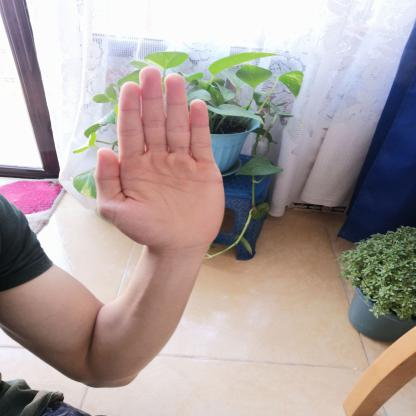SEEN: (84, 57, 238, 260)
